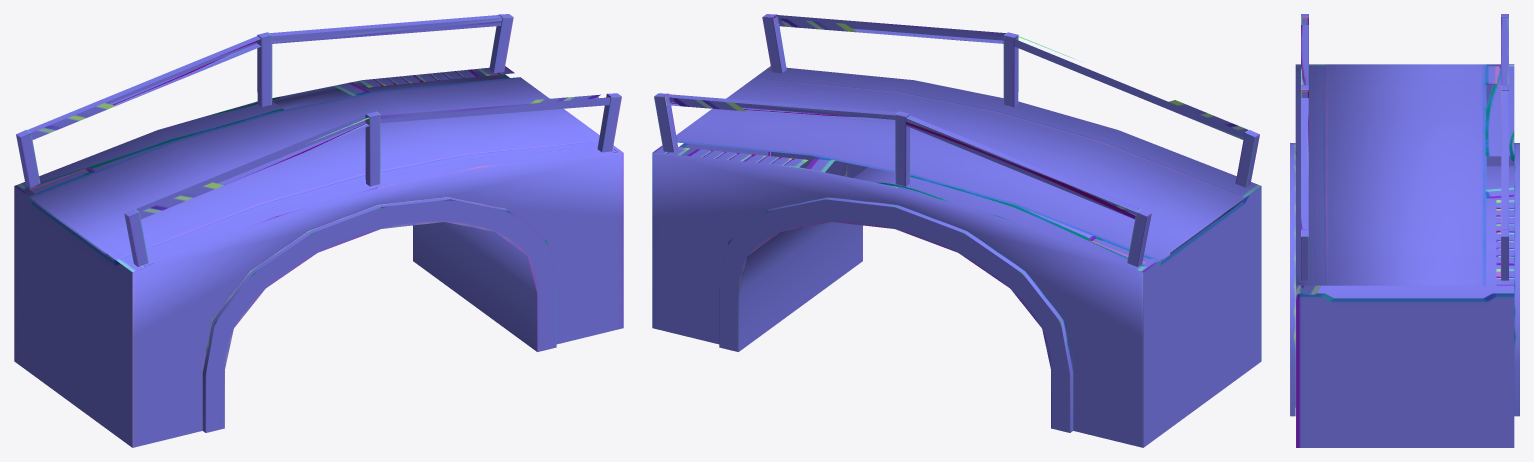
Rendered from StoneFootBridgeLPLOD.FBX.
The picture shows the model from 3 angles, left to right: view 1: azimuth 30°, elevation 25°; view 2: azimuth 150°, elevation 25°; view 3: azimuth 270°, elevation 25°; orthographic projection. The views are drawn at different scales.
Parts seen in each view (by area): view 1: Cylinder005; view 2: Cylinder005; view 3: Cylinder005.
Part boxes in pixels (x1,y1,x2,y2): Cylinder005: [14, 14, 623, 447]; Cylinder005: [652, 14, 1261, 447]; Cylinder005: [1290, 14, 1519, 447].
Size of the model in its own units: 225 by 118 by 98.37.
1 material, 1 textured.
